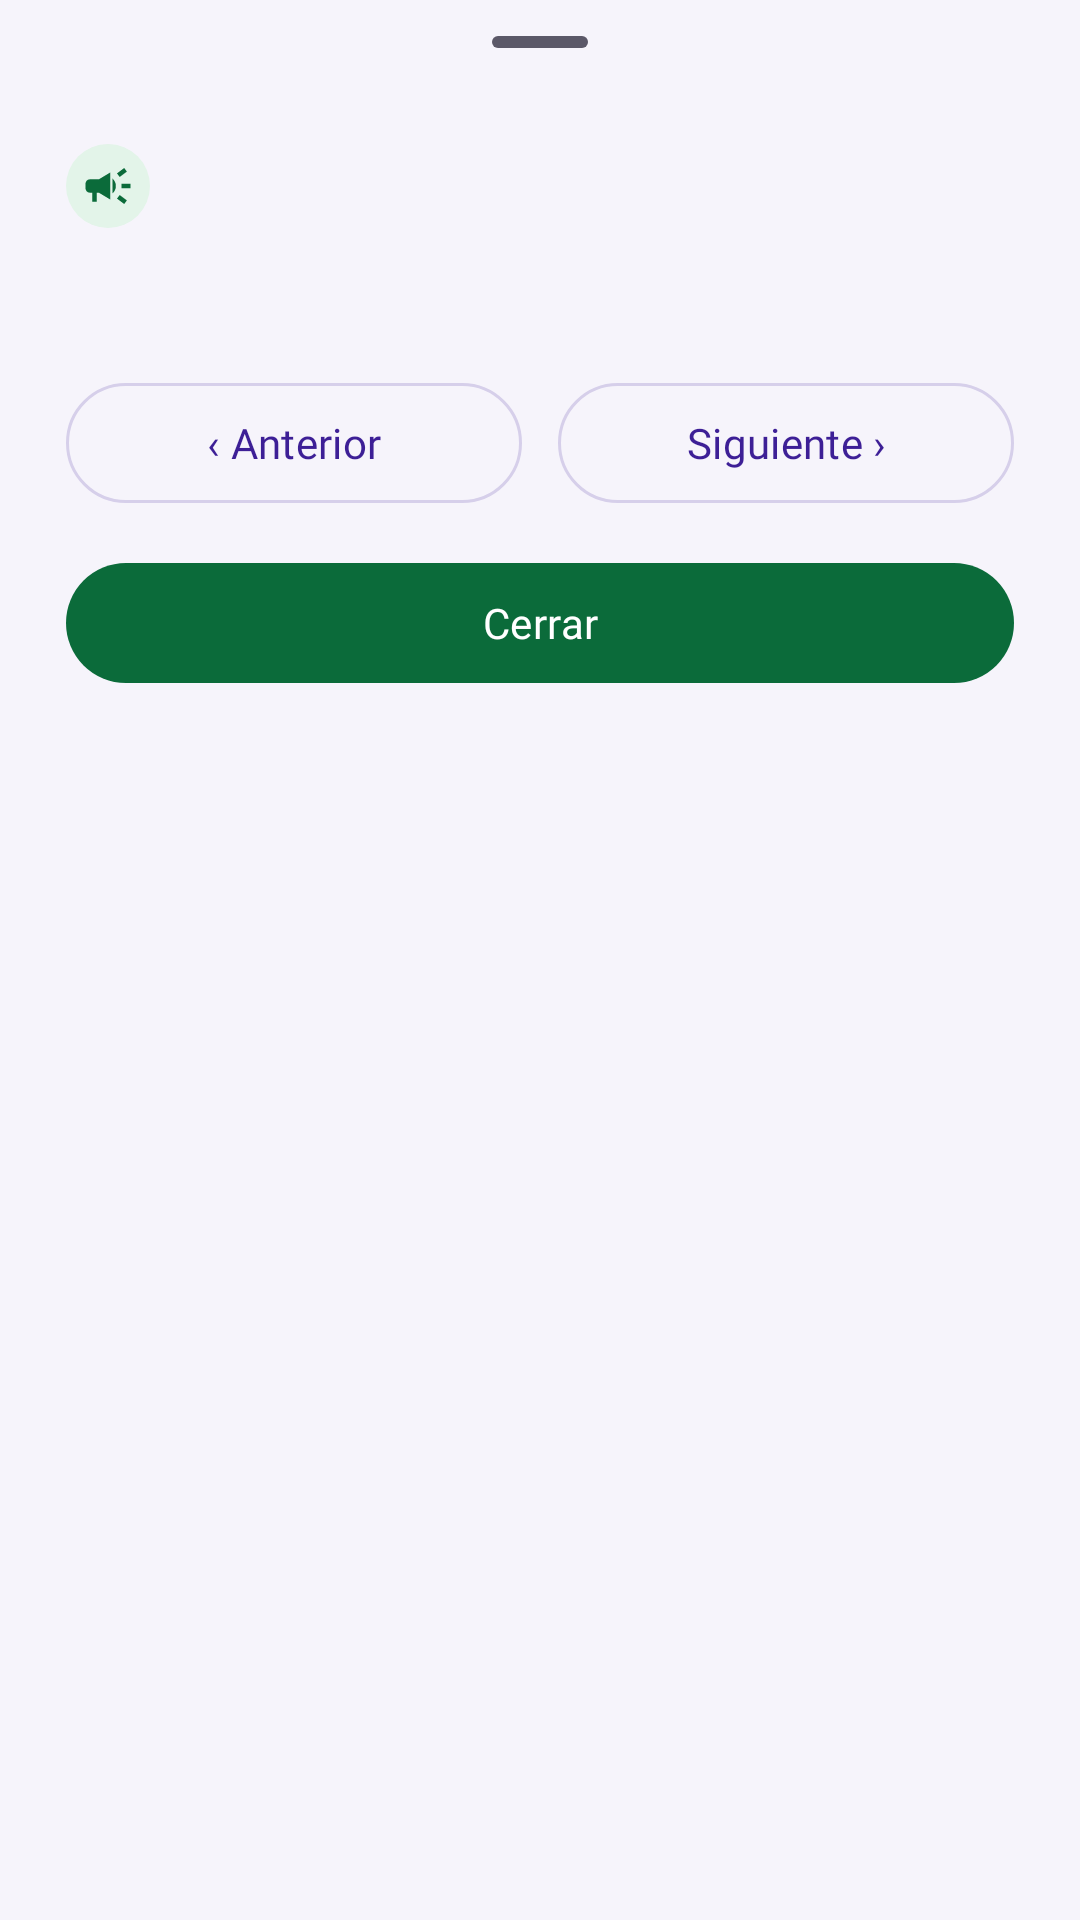

Icon click points for this 1080px x 1920px phone screenshot, format [x,y]:
campaign: [108,186]
